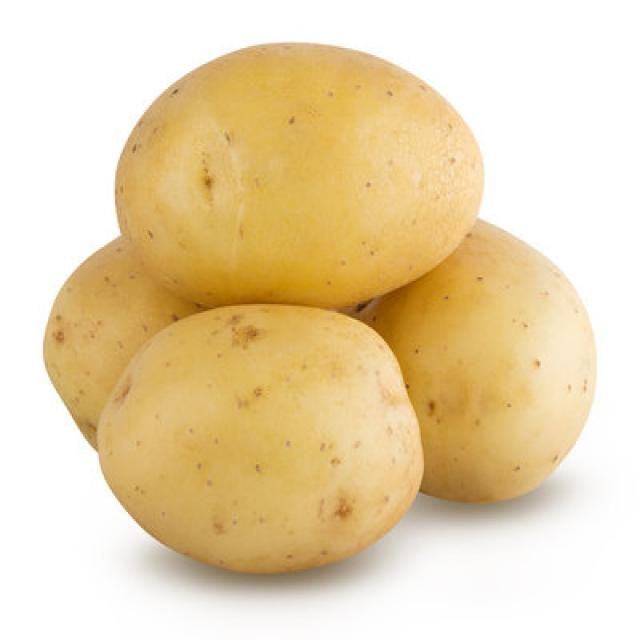Potato: (112, 39, 485, 309), (94, 302, 424, 574), (354, 215, 596, 503), (42, 233, 200, 450)
